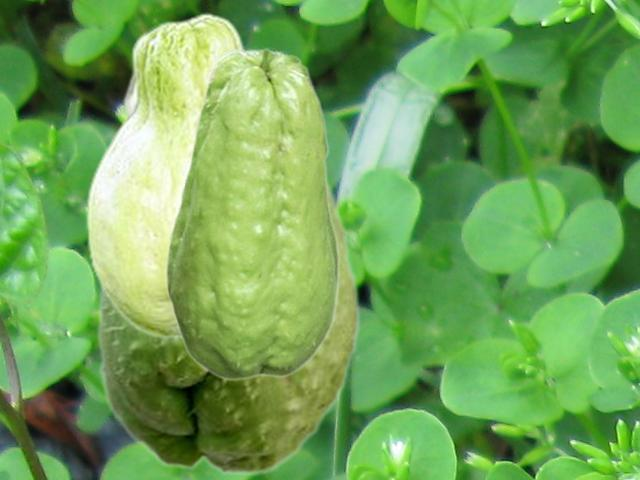sayote: (96, 174, 361, 476), (164, 47, 340, 381), (85, 12, 247, 341)
